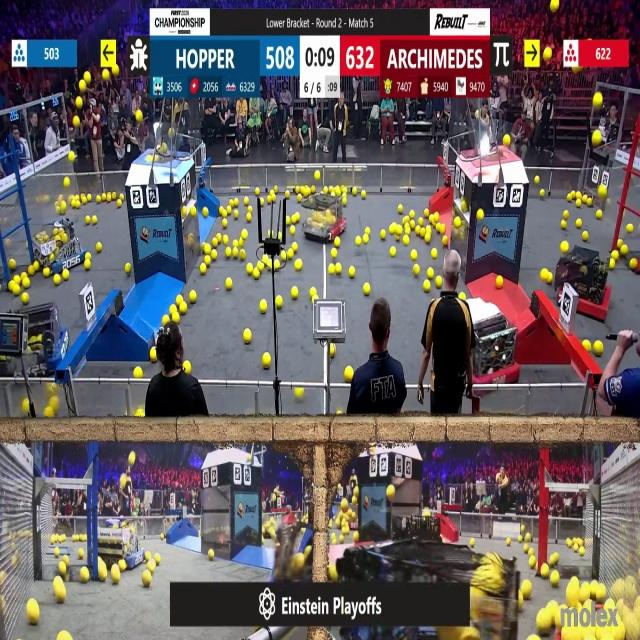ball_airborne: (594, 94, 604, 110), (593, 131, 602, 147), (592, 91, 600, 107), (591, 133, 599, 149), (598, 184, 607, 198), (551, 1, 560, 12), (78, 80, 86, 92), (388, 486, 396, 498), (543, 47, 550, 60), (102, 70, 110, 81), (76, 97, 83, 109), (86, 72, 93, 84), (112, 64, 119, 76), (68, 151, 76, 161), (130, 452, 136, 465), (136, 110, 143, 121), (74, 115, 80, 127), (83, 72, 90, 82), (503, 136, 509, 146), (64, 177, 70, 187), (342, 499, 348, 509), (353, 487, 359, 496), (147, 154, 152, 162), (352, 497, 357, 504), (163, 144, 167, 152), (169, 129, 173, 136)
ball_ground: (54, 579, 67, 604), (28, 602, 40, 626), (522, 581, 532, 599), (110, 566, 120, 583), (550, 570, 560, 586), (99, 564, 108, 581), (142, 570, 151, 586), (21, 401, 30, 417), (594, 342, 604, 356), (345, 366, 354, 381), (264, 352, 272, 368), (80, 567, 88, 582), (244, 330, 252, 344), (540, 564, 548, 577), (183, 360, 191, 373), (630, 260, 638, 273), (496, 276, 503, 290), (149, 348, 156, 362), (294, 387, 302, 399), (551, 554, 559, 566), (276, 296, 284, 308), (562, 241, 569, 254), (134, 366, 142, 377), (294, 261, 302, 272), (23, 278, 31, 289), (61, 562, 68, 574), (435, 276, 442, 288), (423, 280, 430, 292), (188, 290, 195, 302), (291, 287, 298, 299), (584, 340, 592, 350), (260, 301, 266, 314), (529, 557, 536, 568), (363, 283, 370, 294), (240, 249, 247, 260), (23, 292, 29, 304), (225, 278, 231, 290), (180, 304, 186, 316), (390, 224, 398, 233), (224, 247, 231, 257), (389, 247, 396, 257), (233, 248, 240, 258), (118, 561, 125, 571), (54, 275, 61, 285), (328, 265, 334, 276), (246, 265, 252, 276), (64, 272, 70, 282), (583, 232, 589, 242), (201, 266, 207, 276), (427, 268, 433, 278), (154, 554, 160, 564), (310, 287, 316, 297), (454, 217, 460, 227), (226, 207, 232, 217), (575, 218, 581, 228), (212, 250, 218, 260), (622, 246, 628, 256), (189, 207, 195, 217), (137, 410, 144, 418), (418, 217, 425, 225), (424, 235, 431, 243), (342, 198, 349, 206), (431, 248, 436, 259), (209, 550, 214, 561), (337, 265, 342, 276), (444, 236, 449, 247), (413, 249, 418, 260), (608, 261, 614, 270), (335, 237, 341, 246), (234, 239, 240, 248), (78, 550, 84, 559), (242, 231, 248, 240), (97, 242, 102, 252), (561, 220, 567, 228), (246, 214, 252, 222), (253, 272, 259, 280), (244, 198, 250, 206), (275, 262, 281, 270), (611, 251, 617, 259), (356, 237, 362, 245), (575, 200, 581, 208), (44, 269, 50, 277), (22, 278, 28, 286), (381, 232, 387, 240), (239, 240, 245, 248), (291, 242, 297, 250), (415, 226, 421, 234), (145, 553, 150, 562), (331, 248, 336, 257), (204, 208, 209, 217), (403, 236, 408, 245), (220, 207, 225, 216), (290, 225, 295, 234), (410, 210, 416, 217), (204, 255, 210, 262), (524, 544, 530, 551), (361, 190, 366, 198), (505, 537, 510, 545), (258, 264, 263, 272), (564, 210, 568, 219), (235, 210, 239, 219), (426, 225, 432, 231), (619, 240, 623, 249), (539, 189, 544, 196), (259, 199, 264, 206), (316, 172, 320, 180), (424, 210, 428, 218), (596, 210, 600, 218), (235, 201, 239, 208)
goal: (466, 119, 521, 160), (131, 129, 187, 159)
robot_blue: (34, 215, 86, 270), (99, 521, 144, 569)
robot_red: (471, 313, 520, 387), (565, 249, 610, 321), (303, 193, 346, 244)
